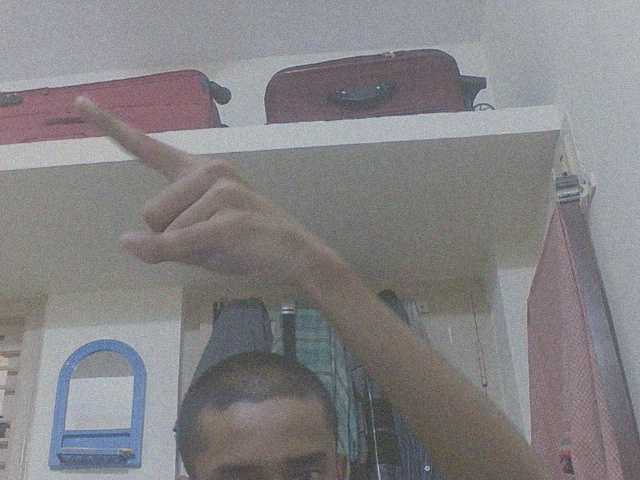hand: (72, 90, 326, 299)
